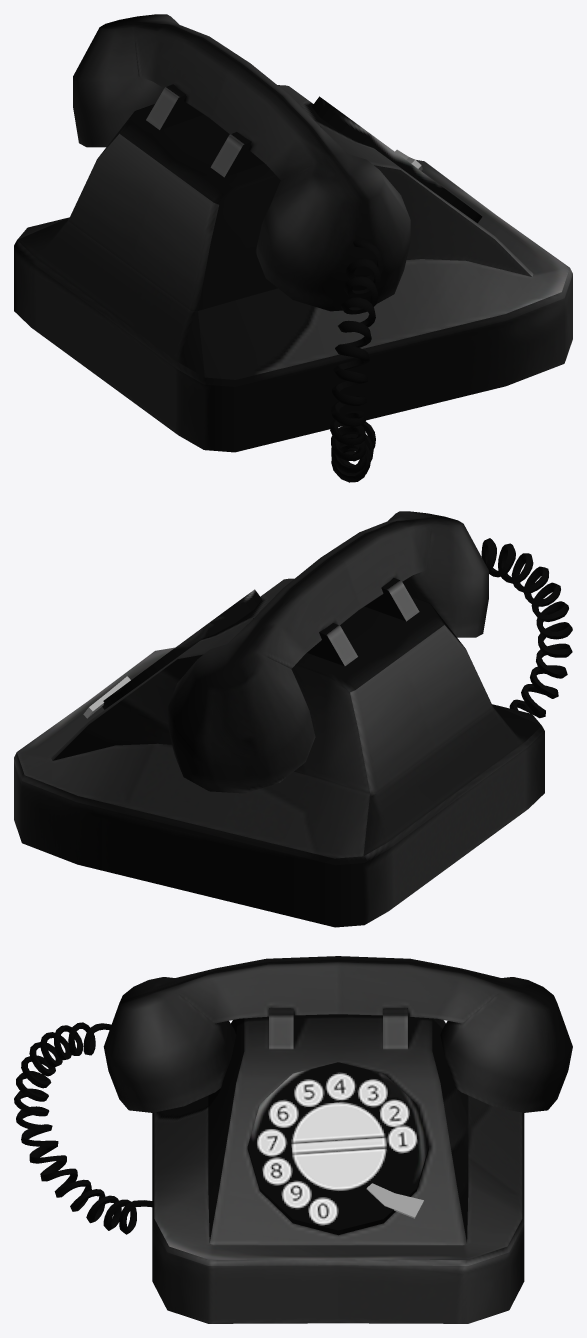
File: denwa.fbx
3 views of the same model, one above another, from view 1: azimuth 30°, elevation 25°; view 2: azimuth 150°, elevation 25°; view 3: azimuth 270°, elevation 25° (orthographic). The views are drawn at different scales.
Parts seen in each view (by area): view 1: _003_denwa; view 2: _003_denwa; view 3: _003_denwa.
Part boxes in pixels (x1,y1,x2,y2): _003_denwa: (14,14,572,482); _003_denwa: (14,511,572,927); _003_denwa: (14,956,572,1323).
Bounding box in the file's own units: 2.74 × 2.06 × 3.8.
